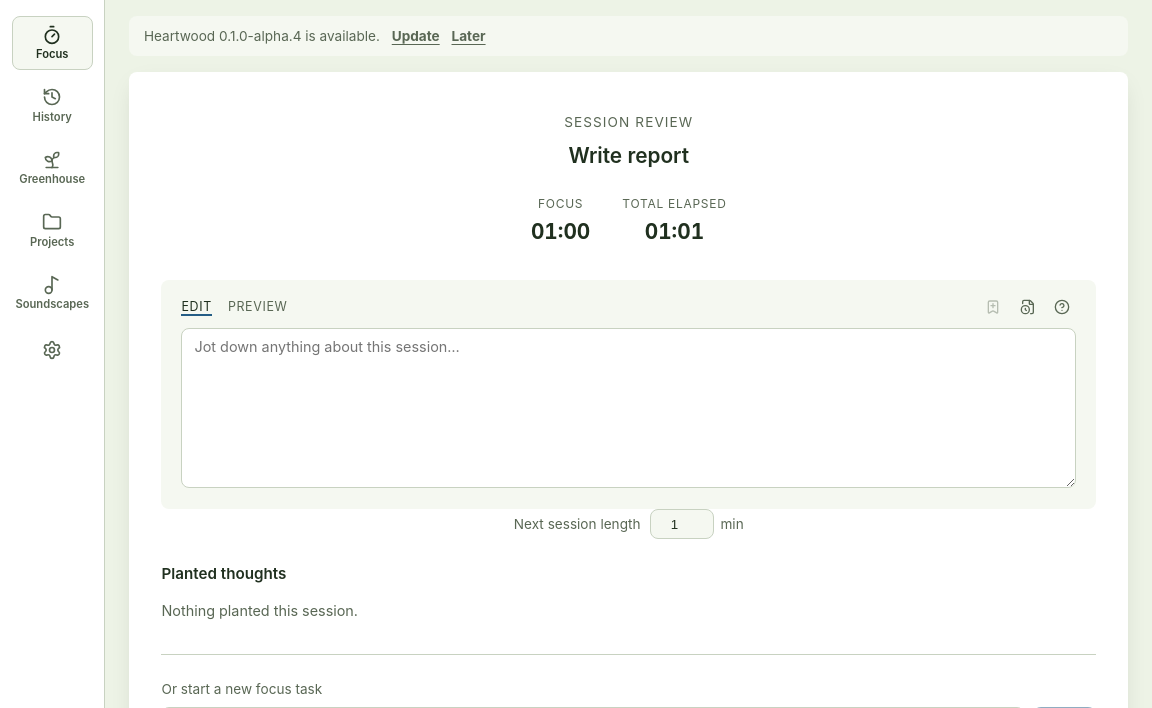
Test: update banner › surfaces a failed download in the banner instead of silently reverting
expect the heading "Write report" is shown: met, box [568,143,689,168]
expect the text "Heartwood 0.1.0-alpha.4 is available. Update Later" is shown: met, box [130,16,1128,56]
Click the button "Update": (416, 36) [392,28,440,44]
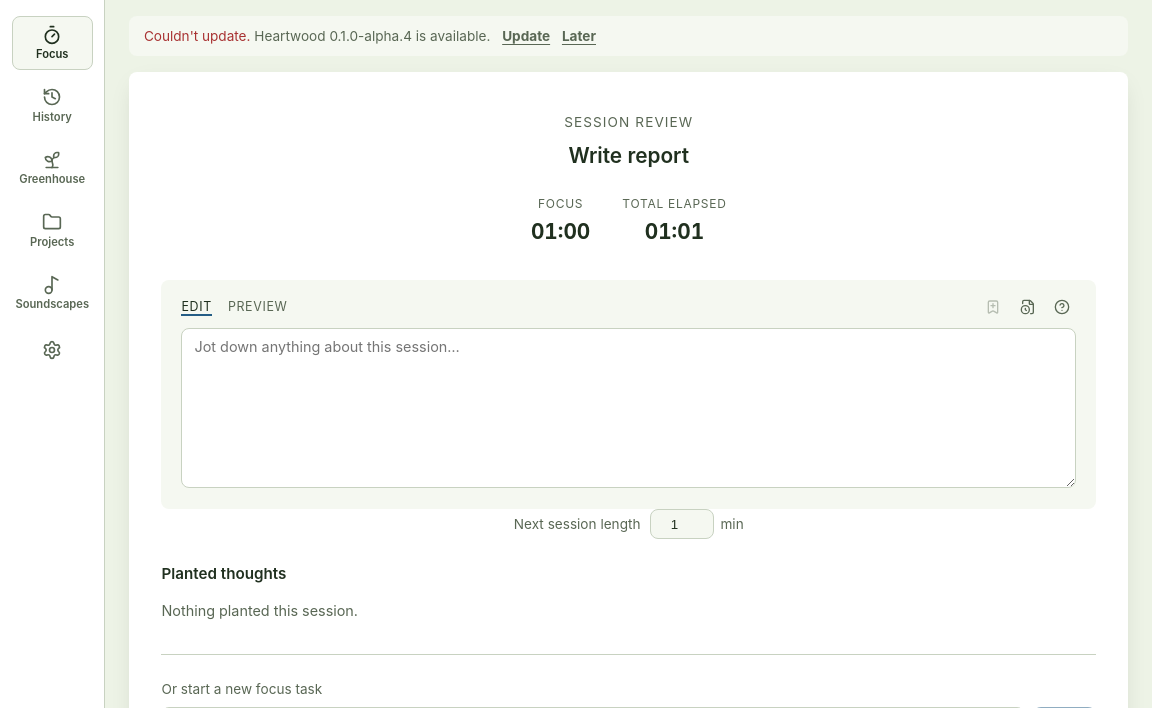
expect the button "Update" is shown: met, box [502,28,550,44]
expect the text "Couldn't update." is shown: met, box [144,28,250,44]
